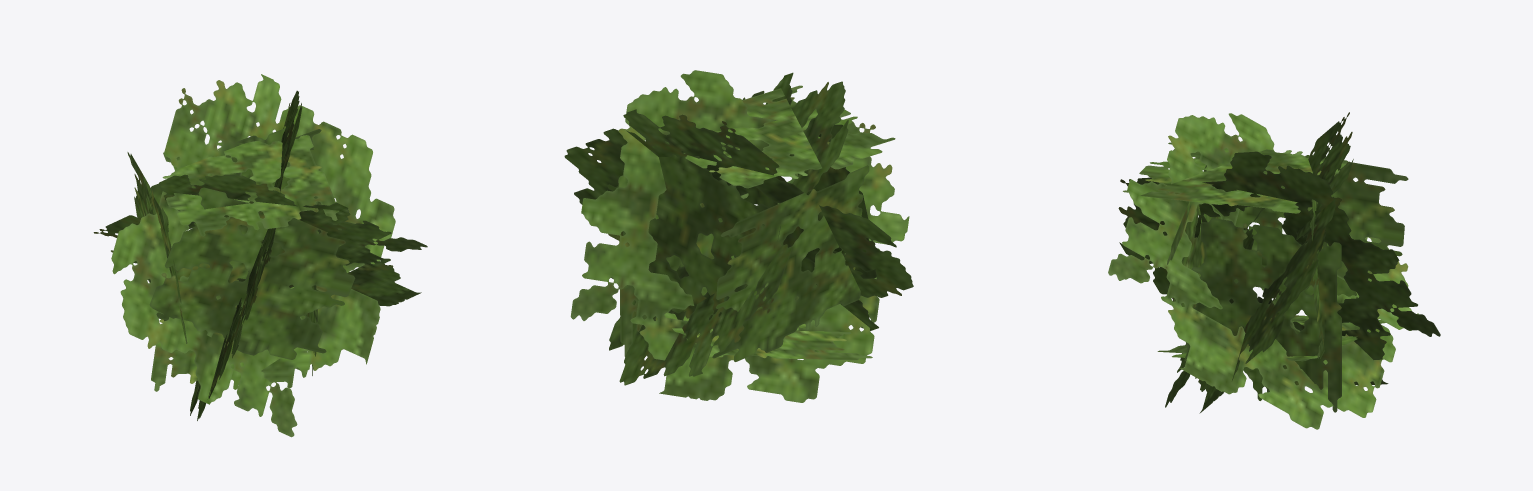
Rendered from beech_leaves_3.obj.
3 renders of one model, left to right at view 1: azimuth 30°, elevation 25°; view 2: azimuth 150°, elevation 25°; view 3: azimuth 270°, elevation 25°, orthographic. The views are drawn at different scales.
Parts seen in each view (by area): view 1: south, east, west, top, bottom; view 2: east, south, west, top, bottom, north; view 3: west, east, north, south, top, bottom.
Part boxes in pixels (bbox=[...]): south: bbox=[111, 74, 395, 437]; east: bbox=[149, 90, 355, 420]; west: bbox=[93, 127, 427, 306]; top: bbox=[162, 135, 338, 236]; bottom: bbox=[151, 287, 311, 391]; east: bbox=[570, 70, 909, 402]; south: bbox=[564, 109, 913, 361]; west: bbox=[607, 72, 848, 385]; top: bbox=[684, 85, 895, 188]; bottom: bbox=[664, 287, 872, 360]; north: bbox=[618, 153, 748, 356]; west: bbox=[1108, 113, 1418, 429]; east: bbox=[1118, 151, 1440, 385]; north: bbox=[1191, 218, 1341, 412]; south: bbox=[1165, 112, 1408, 413]; top: bbox=[1123, 142, 1347, 213]; bottom: bbox=[1157, 315, 1385, 361].
Size of the model in its own units: 2.25 by 1.98 by 2.27.
